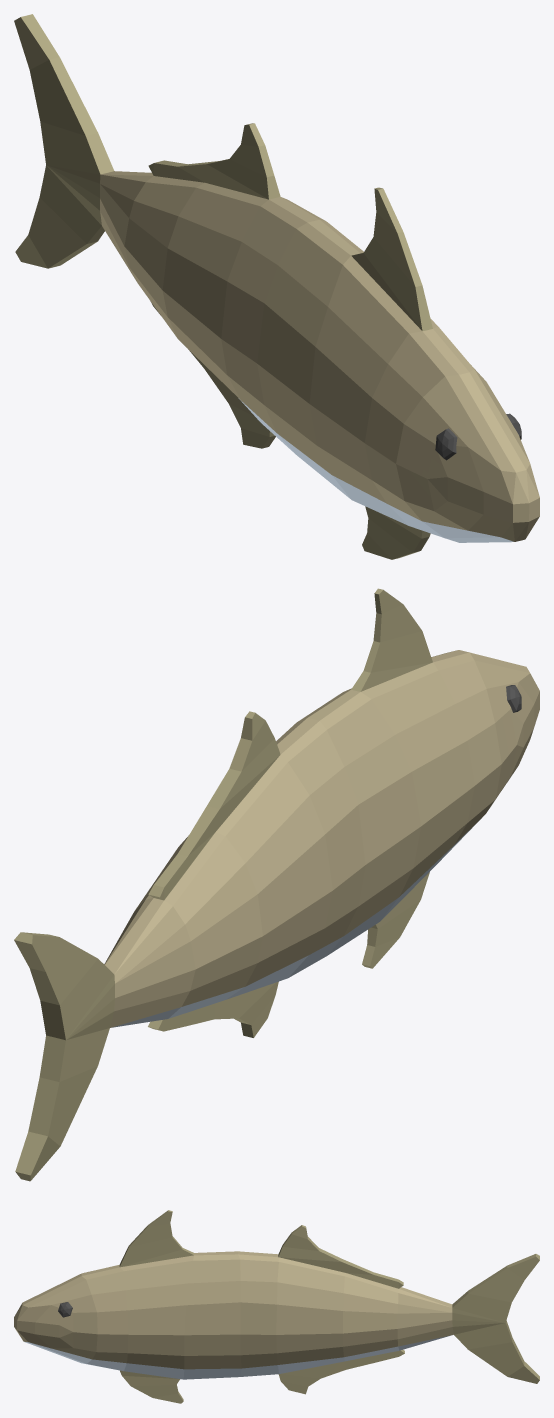
The model's file is fish01.fbx.
3 views of the same model, one above another, from view 1: azimuth 30°, elevation 25°; view 2: azimuth 150°, elevation 25°; view 3: azimuth 270°, elevation 25° (orthographic). The views are drawn at different scales.
Parts seen in each view (by area): view 1: fish01; view 2: fish01; view 3: fish01.
Part boxes in pixels (box(x1,y1,x2,y2)): fish01: box(14, 14, 539, 559); fish01: box(14, 588, 539, 1181); fish01: box(14, 1210, 539, 1403).
Size of the model in its own units: 15.17 by 119 by 47.99.
